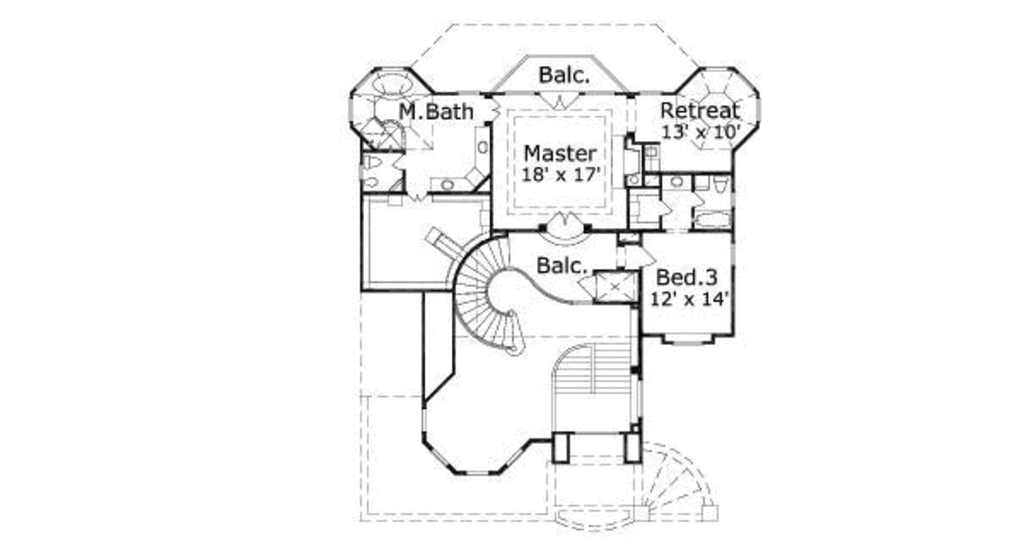door: (535, 87, 581, 114), (541, 210, 584, 229)
large_sink: (358, 152, 384, 171), (707, 173, 727, 195)
small_sink: (472, 128, 490, 175), (433, 174, 468, 195), (661, 171, 692, 190)
stairs: (452, 235, 528, 359), (549, 341, 630, 407)
tub: (689, 209, 734, 231)
windows: (667, 337, 704, 350)
